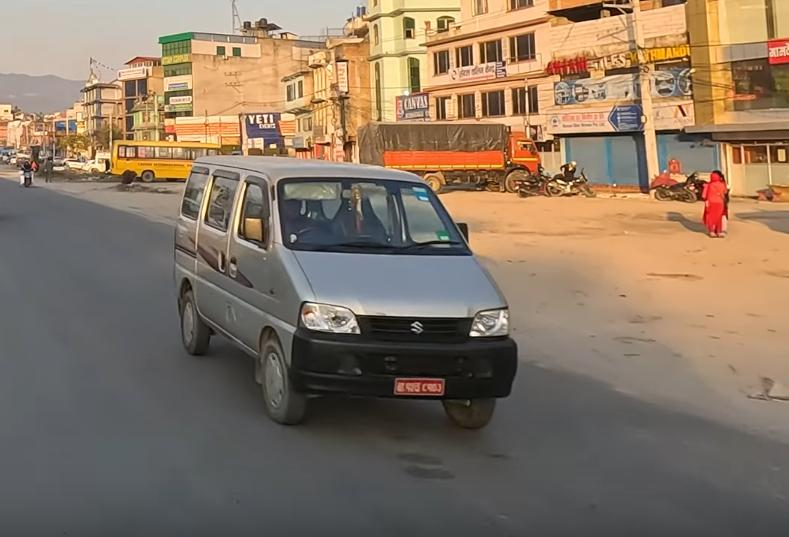bike: (540, 168, 597, 199)
school_bus: (109, 136, 230, 185)
truck: (351, 116, 545, 195)
van: (168, 148, 515, 433)
